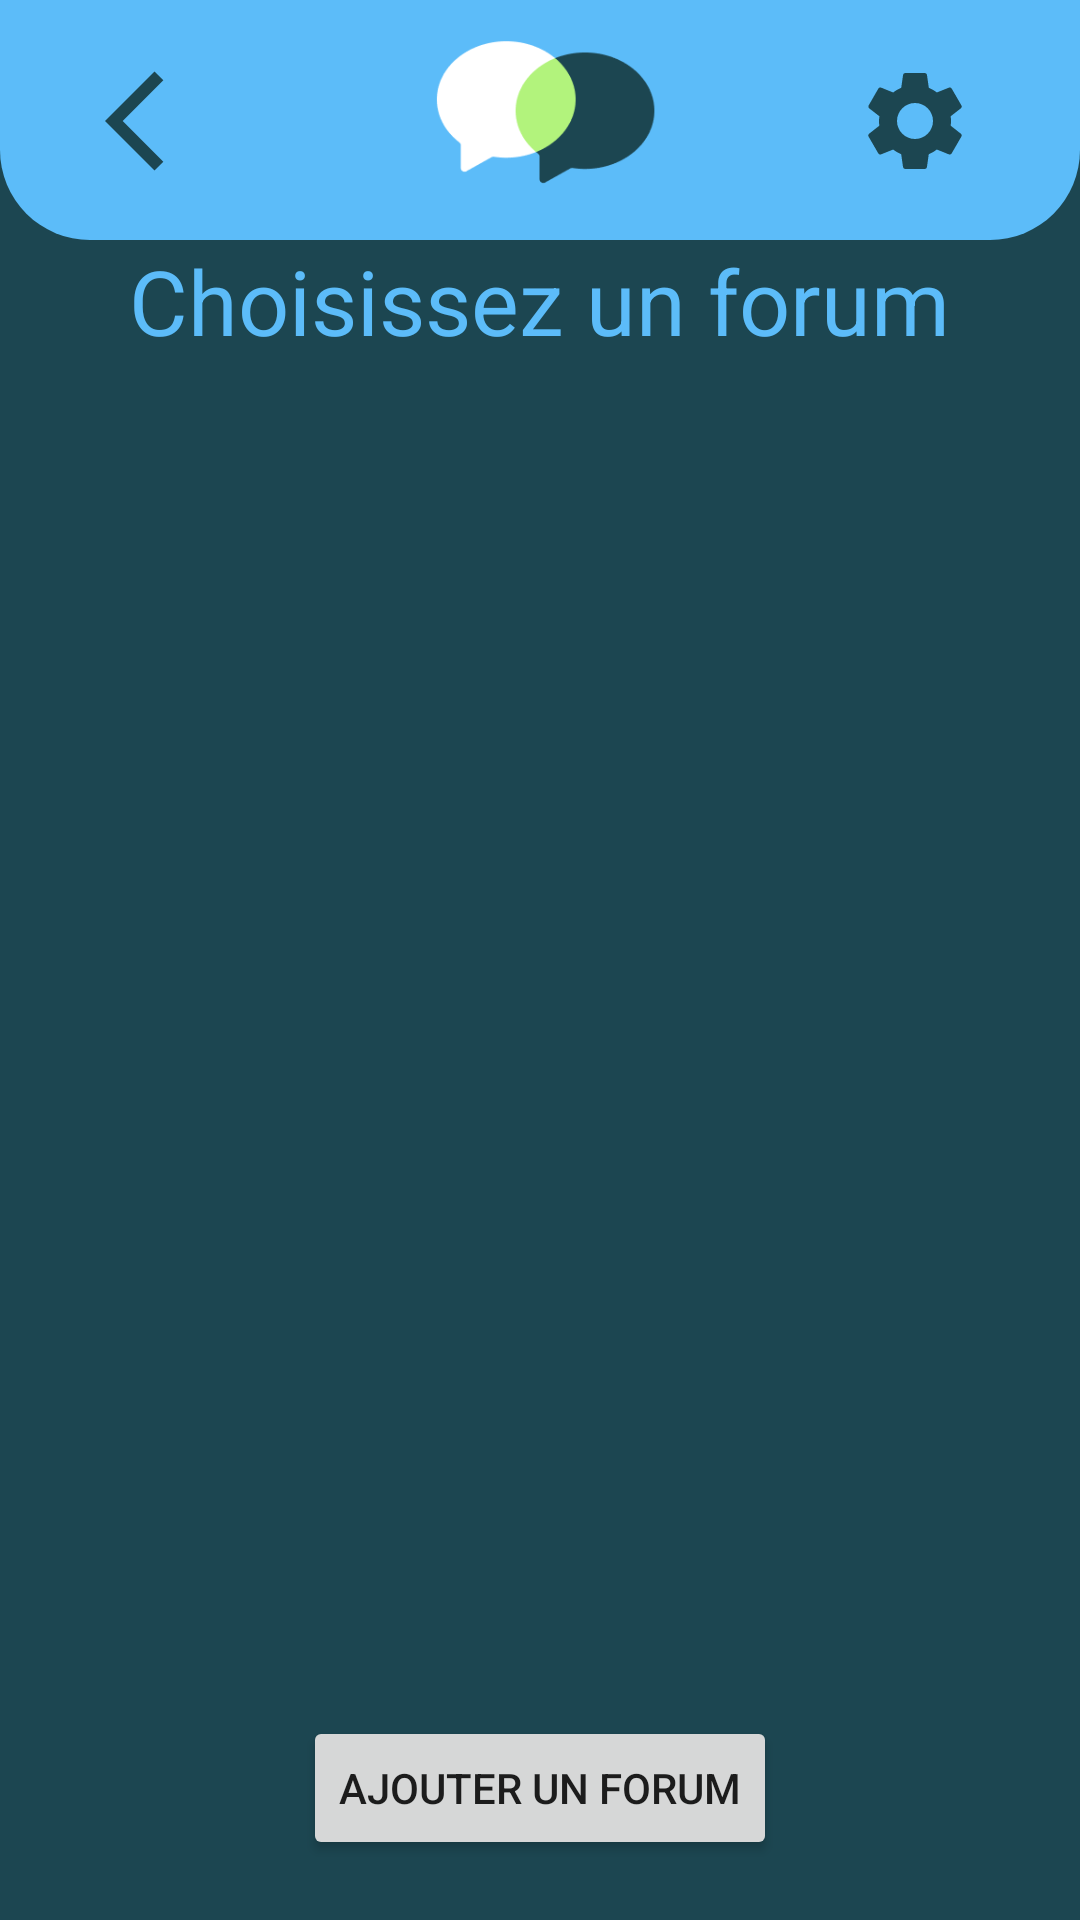

Named icons in this screenshot (1080 x 1920) and their centers, [x,y]:
retour: [134,121]
réglage: [915,121]
